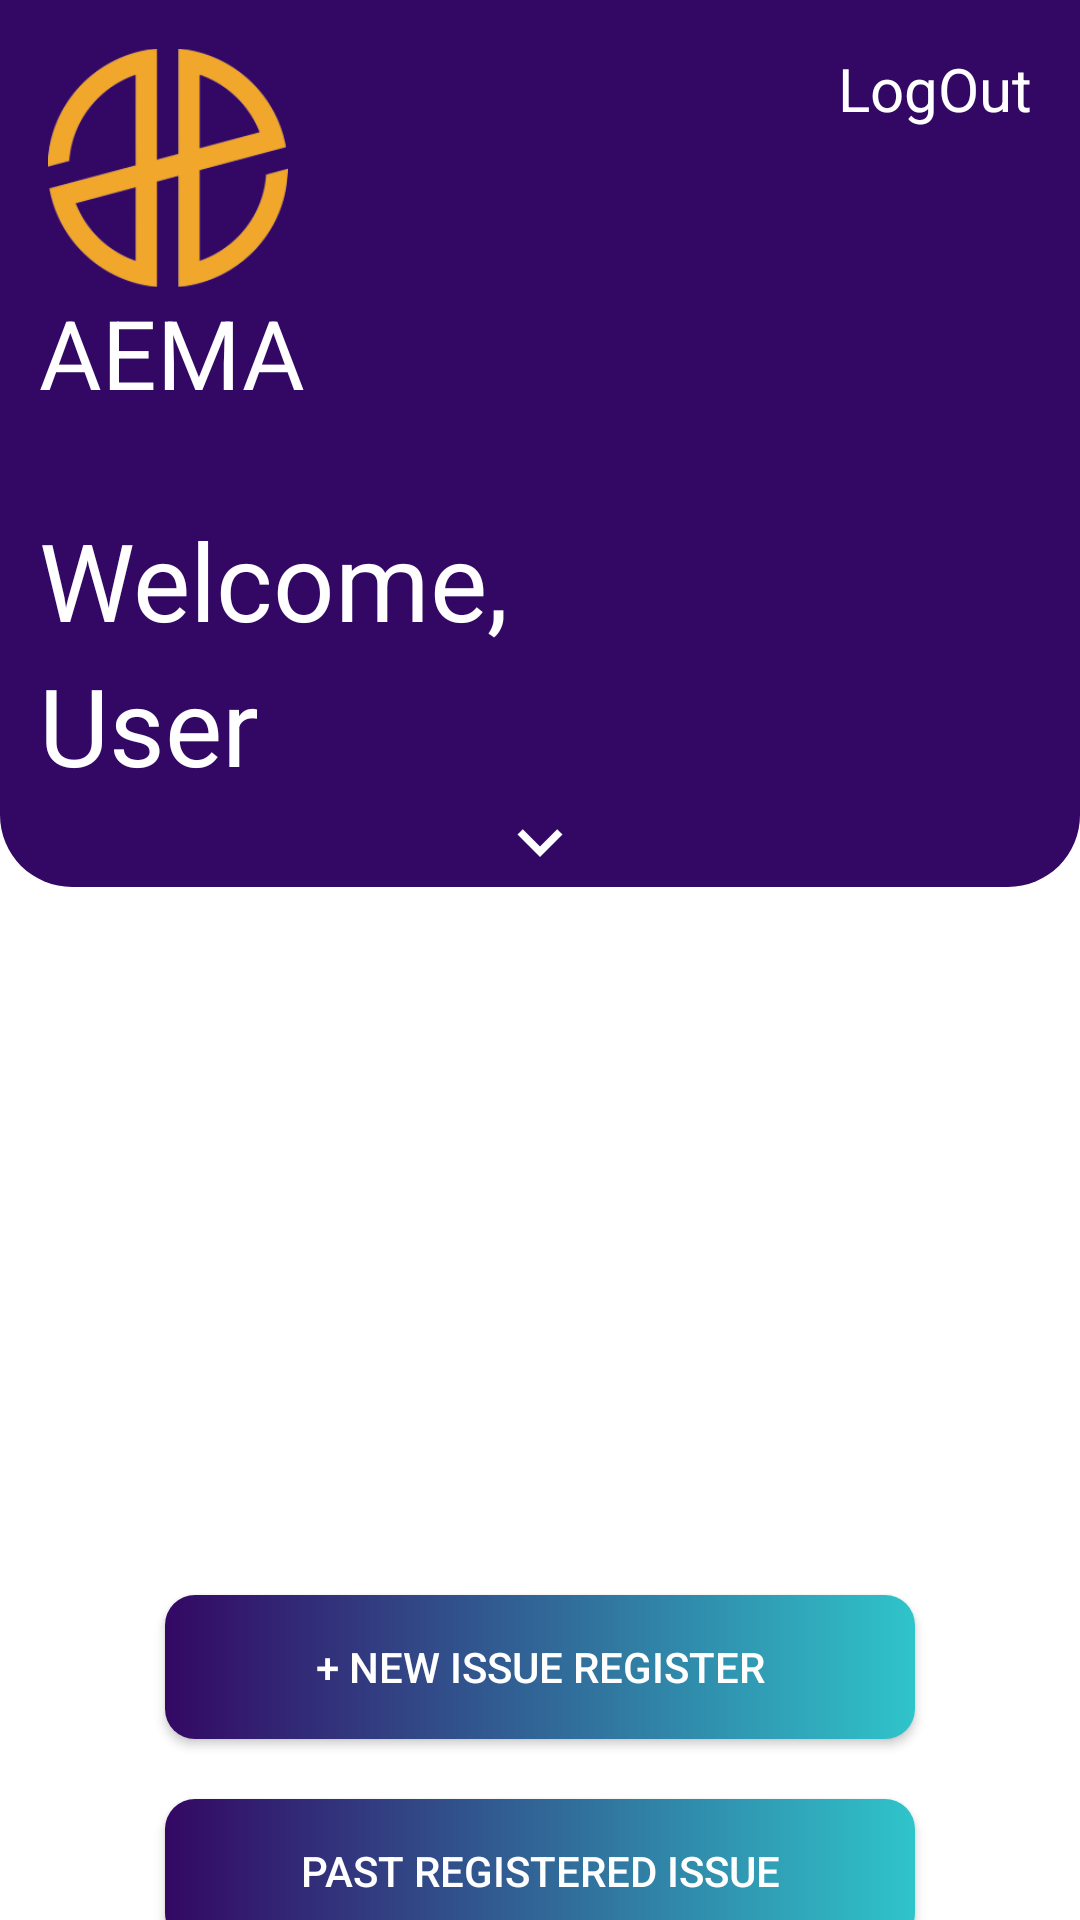

Screen size 1080 × 1920. Icon name, then its center in pixels as point (x, y):
arrow down: point (540, 843)
